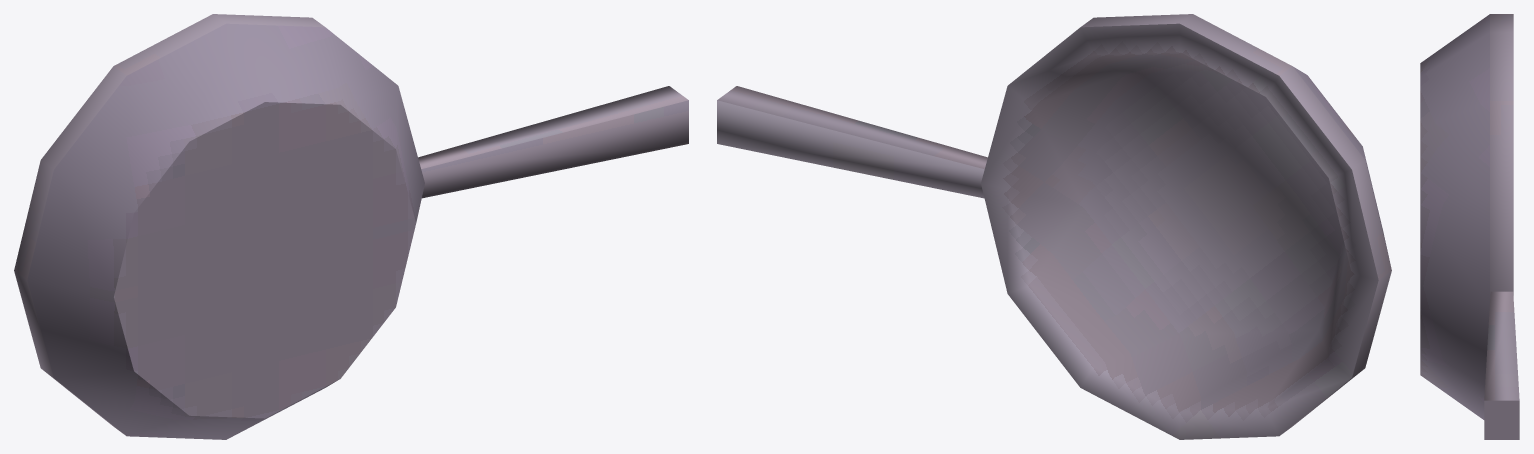
File: Pan.fbx
3 renders of one model, left to right at view 1: azimuth 30°, elevation 25°; view 2: azimuth 150°, elevation 25°; view 3: azimuth 270°, elevation 25°, orthographic. The views are drawn at different scales.
Parts seen in each view (by area): view 1: Pan; view 2: Pan; view 3: Pan.
Boxes of the visible parts, bbox=[...] form: Pan: bbox=[14, 14, 688, 439]; Pan: bbox=[717, 14, 1391, 439]; Pan: bbox=[1420, 14, 1519, 439].
Bounding box in the file's own units: 56.77 × 34.3 × 8.26.
